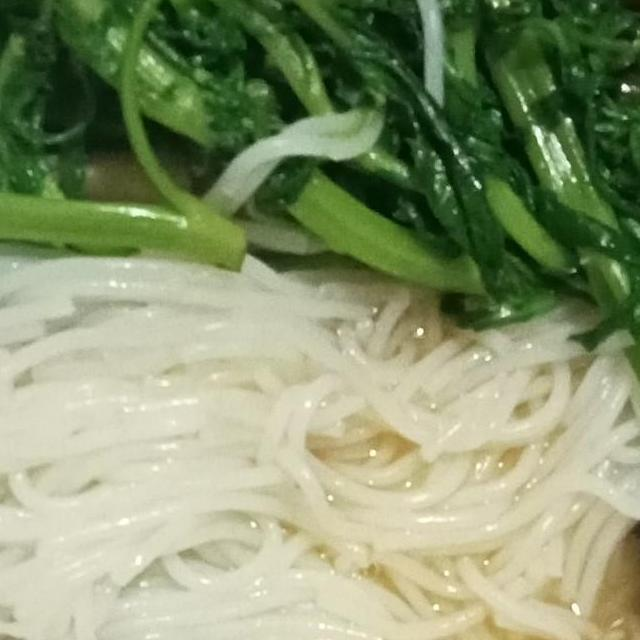bun: (0, 221, 640, 640)
